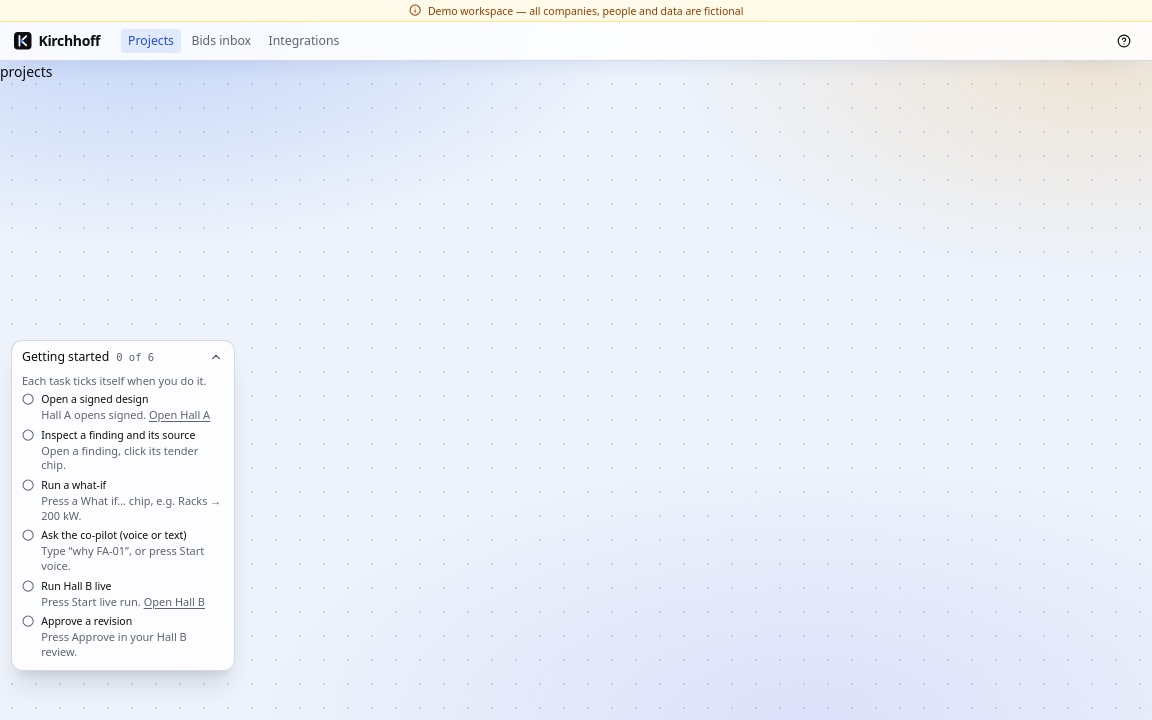
Test case: ? -> "Restart the tour" works after the tour has finished
Type keys "?"
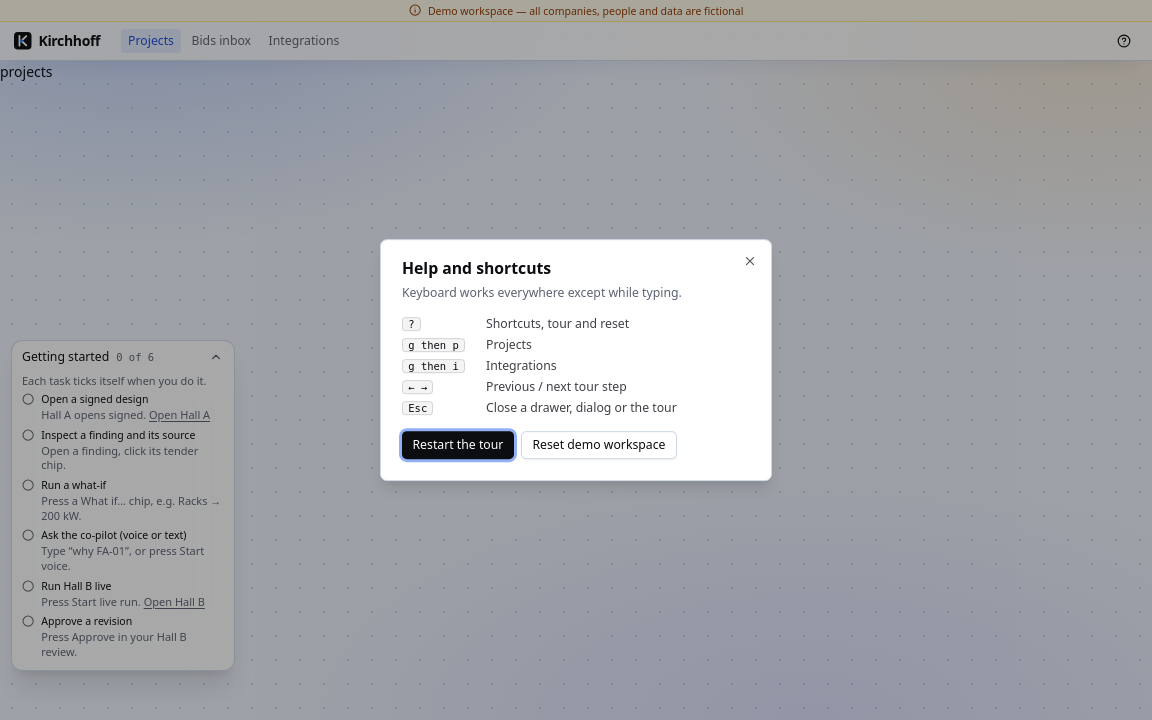
Click the button "Restart the tour": x=458, y=445 [402,431,514,459]
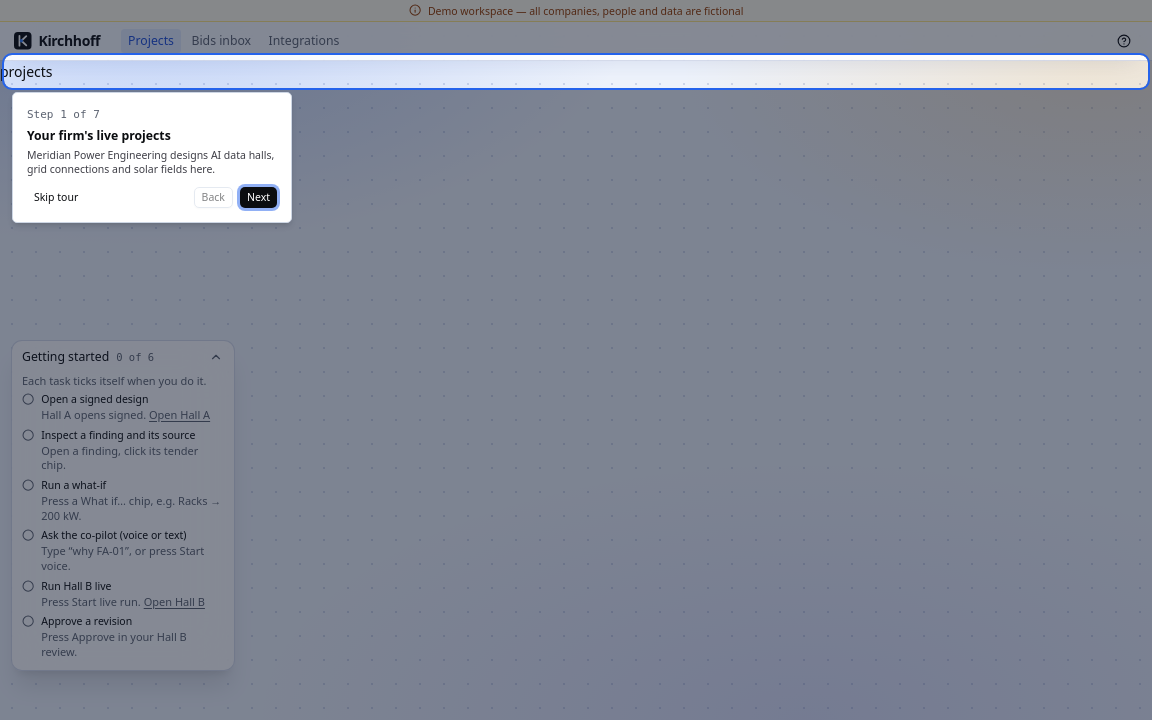
Now the text "Step 1 of 7" is shown, box [27,108,100,121]
